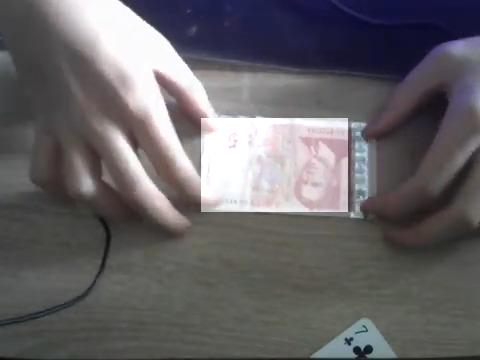5leva: (201, 118, 348, 212)
